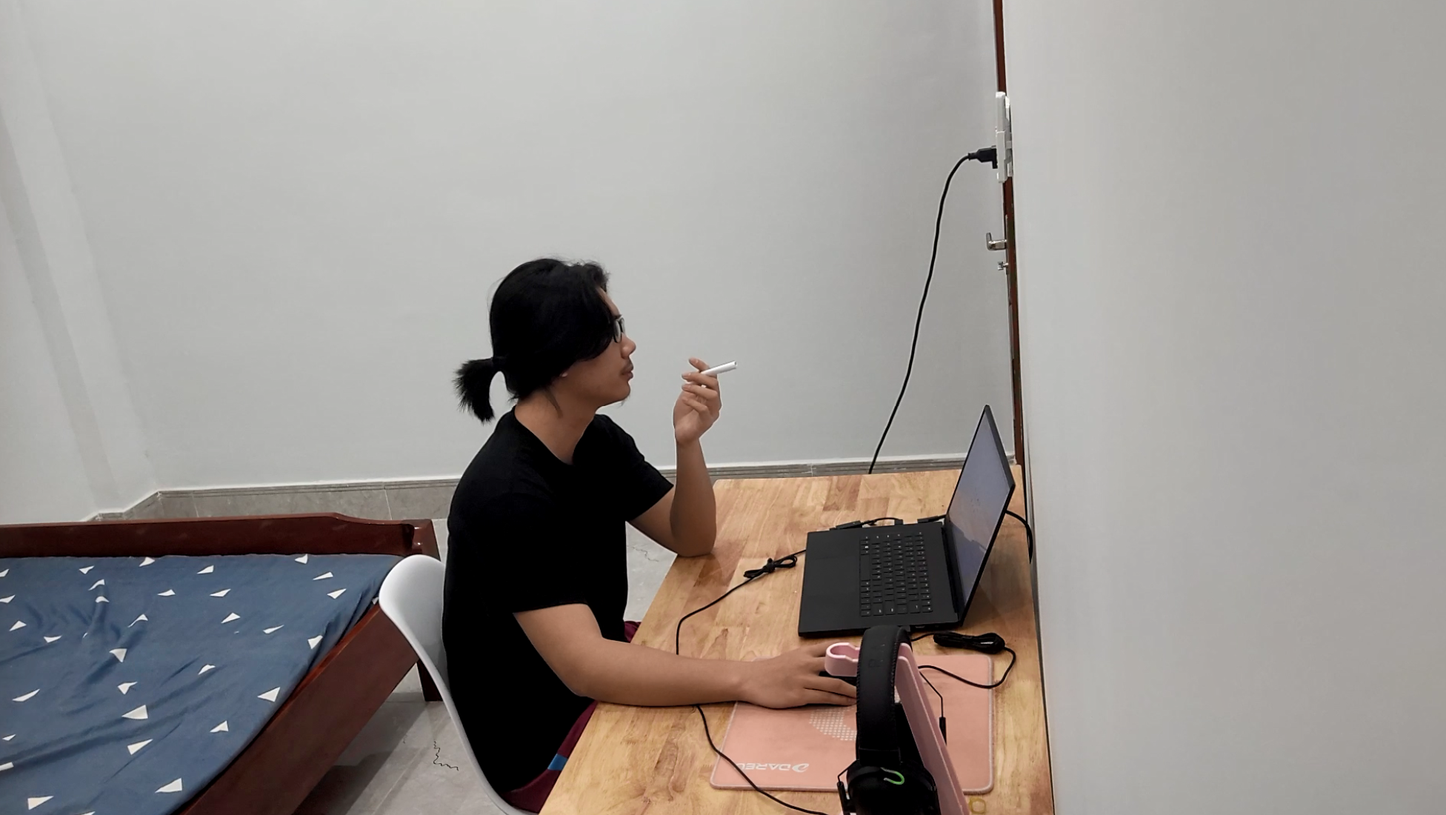cigarette: (686, 362, 748, 379)
person: (413, 246, 722, 808)
